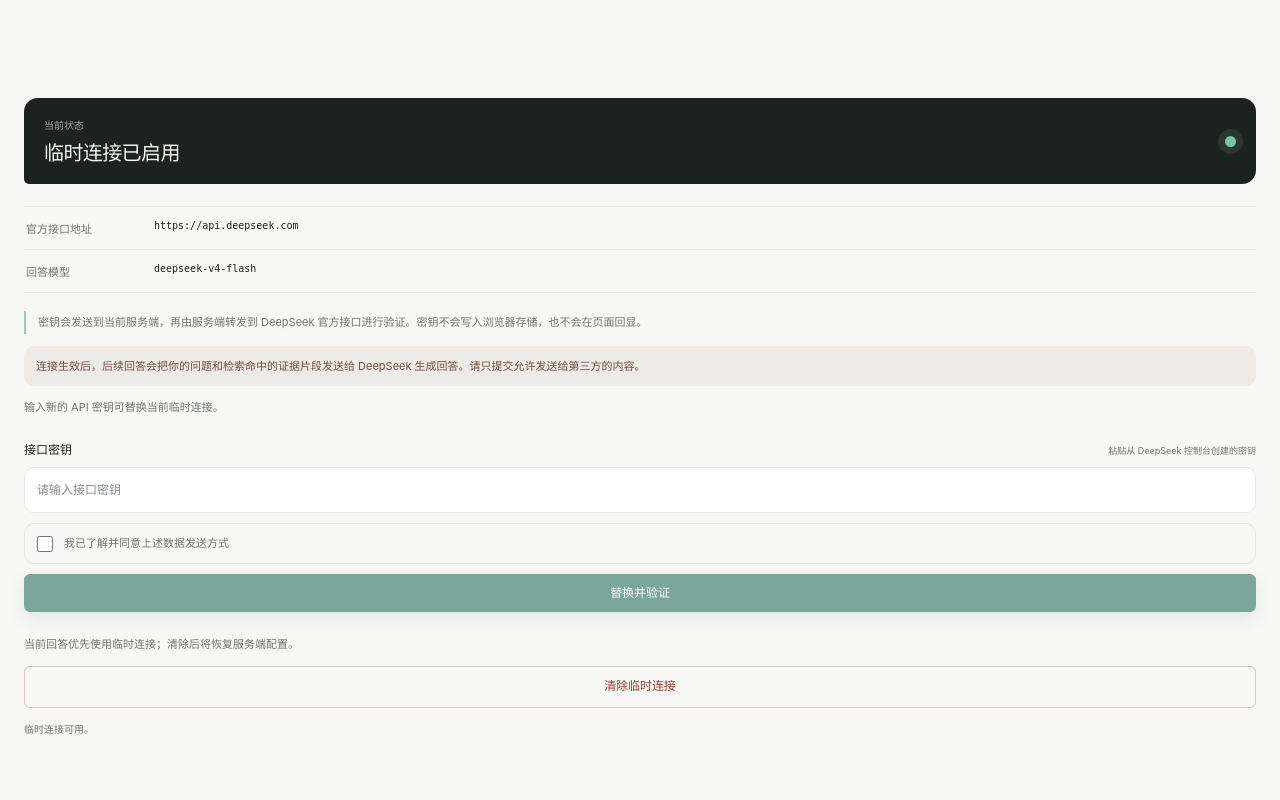
Test case: 模型连接面板 › 清除临时连接后恢复并保留服务端连接状态
What coordinates should you click on to do the following:
click the button with test id "clear-deepseek"
I would click on:
 (640, 687)
Its box is top-left (24, 666), bottom-right (1256, 708).
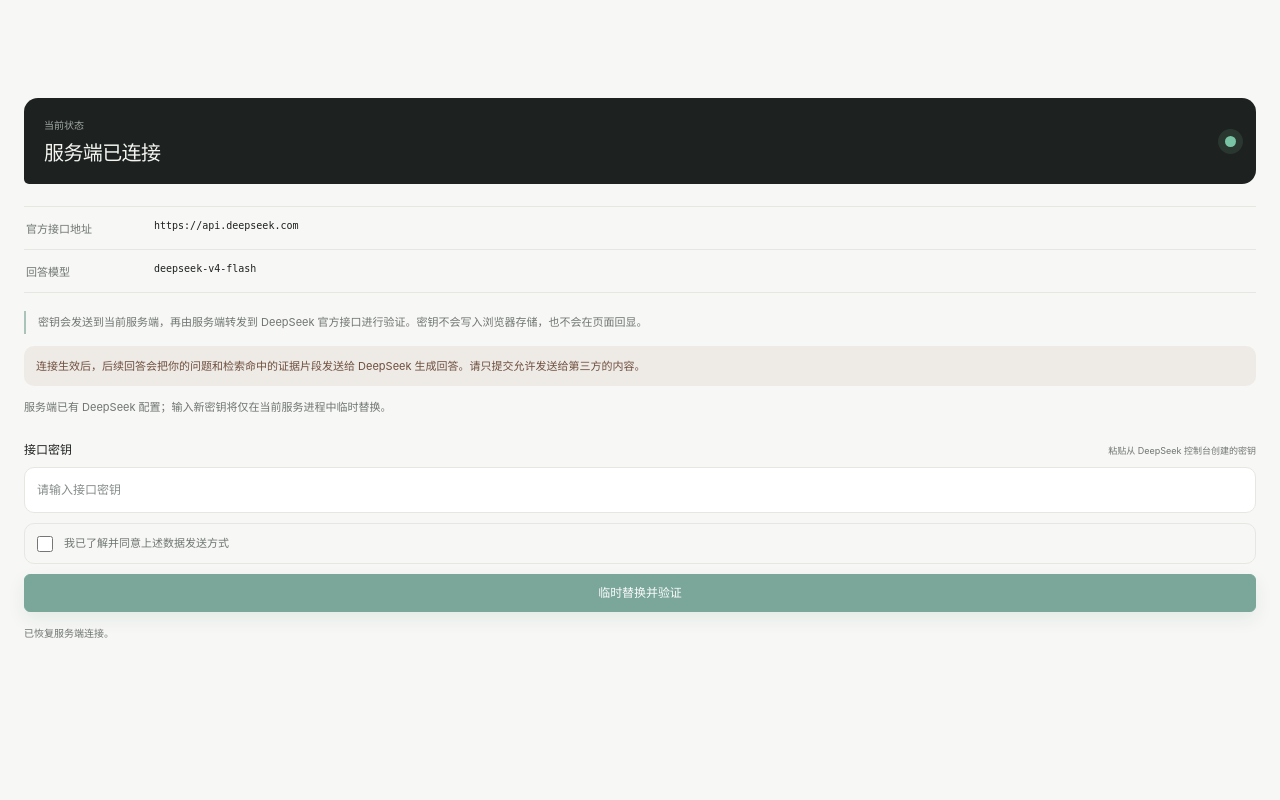
Expected: the password field with test id "deepseek-api-key" is shown, top-left (24, 467), bottom-right (1256, 513)
Expected: the message "已恢复服务端连接。" is shown, top-left (24, 627), bottom-right (114, 639)
Expected: the text "服务端已连接" is shown, top-left (44, 136), bottom-right (160, 166)
